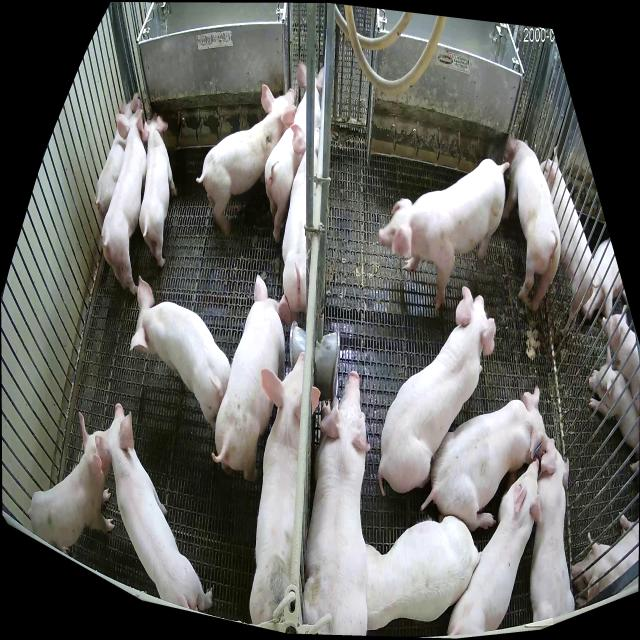pig: (95, 403, 213, 612), (379, 286, 496, 496), (378, 159, 510, 306), (420, 385, 545, 532), (304, 370, 368, 638), (449, 458, 543, 633), (212, 275, 291, 483), (129, 276, 231, 433), (196, 84, 296, 236), (250, 353, 304, 624), (364, 516, 481, 630), (28, 413, 115, 553), (265, 59, 324, 243), (504, 137, 560, 311), (102, 108, 147, 293), (531, 439, 575, 622), (282, 124, 319, 313), (139, 113, 176, 266), (95, 95, 139, 215)
